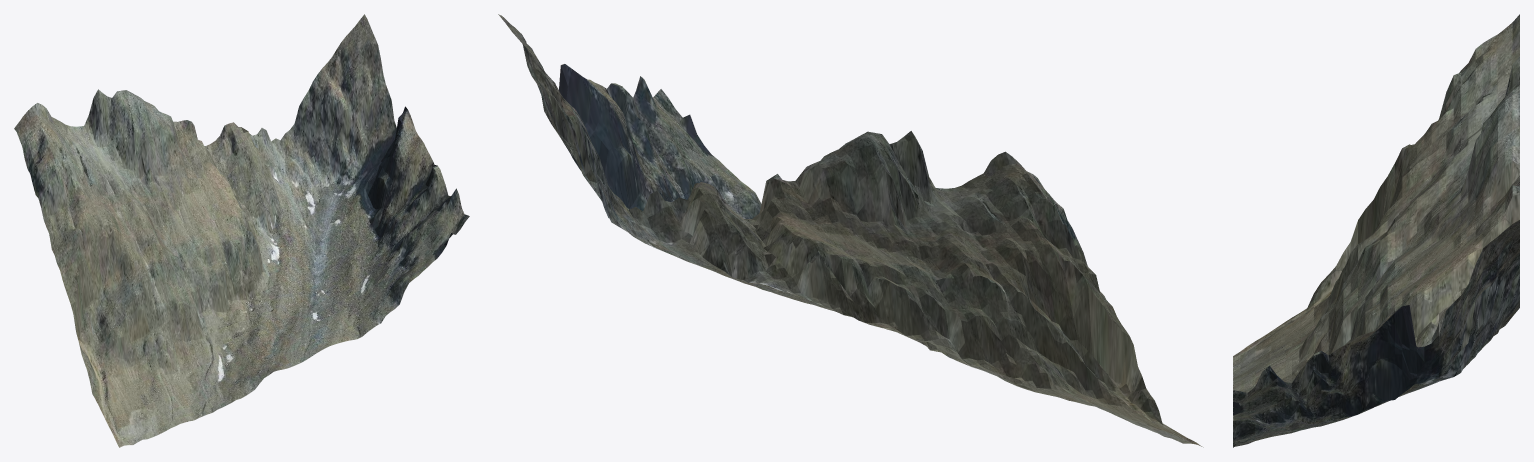
Rendered from Silv_tile_44.gltf.
3 views of the same model, side by side, from view 1: azimuth 30°, elevation 25°; view 2: azimuth 150°, elevation 25°; view 3: azimuth 270°, elevation 25° (orthographic). The views are drawn at different scales.
Visible parts, largest first — view 1: 18.022; view 2: 18.022; view 3: 18.022.
Part boxes in pixels (bbox=[...]): 18.022: bbox=[14, 14, 469, 447]; 18.022: bbox=[498, 14, 1203, 447]; 18.022: bbox=[1233, 14, 1519, 447].
Bounding box in the file's own units: 0.5859 × 0.4344 × 0.3047.
Materials: 1 (1 with a texture image).
